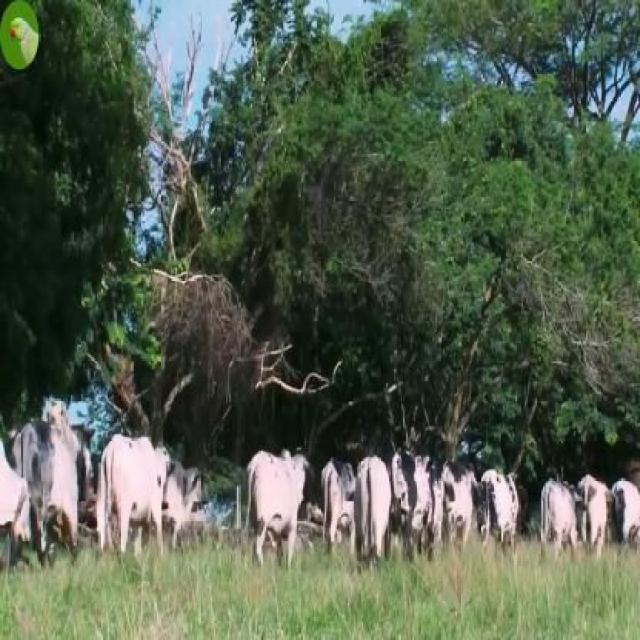Cow: (96, 436, 170, 570)
